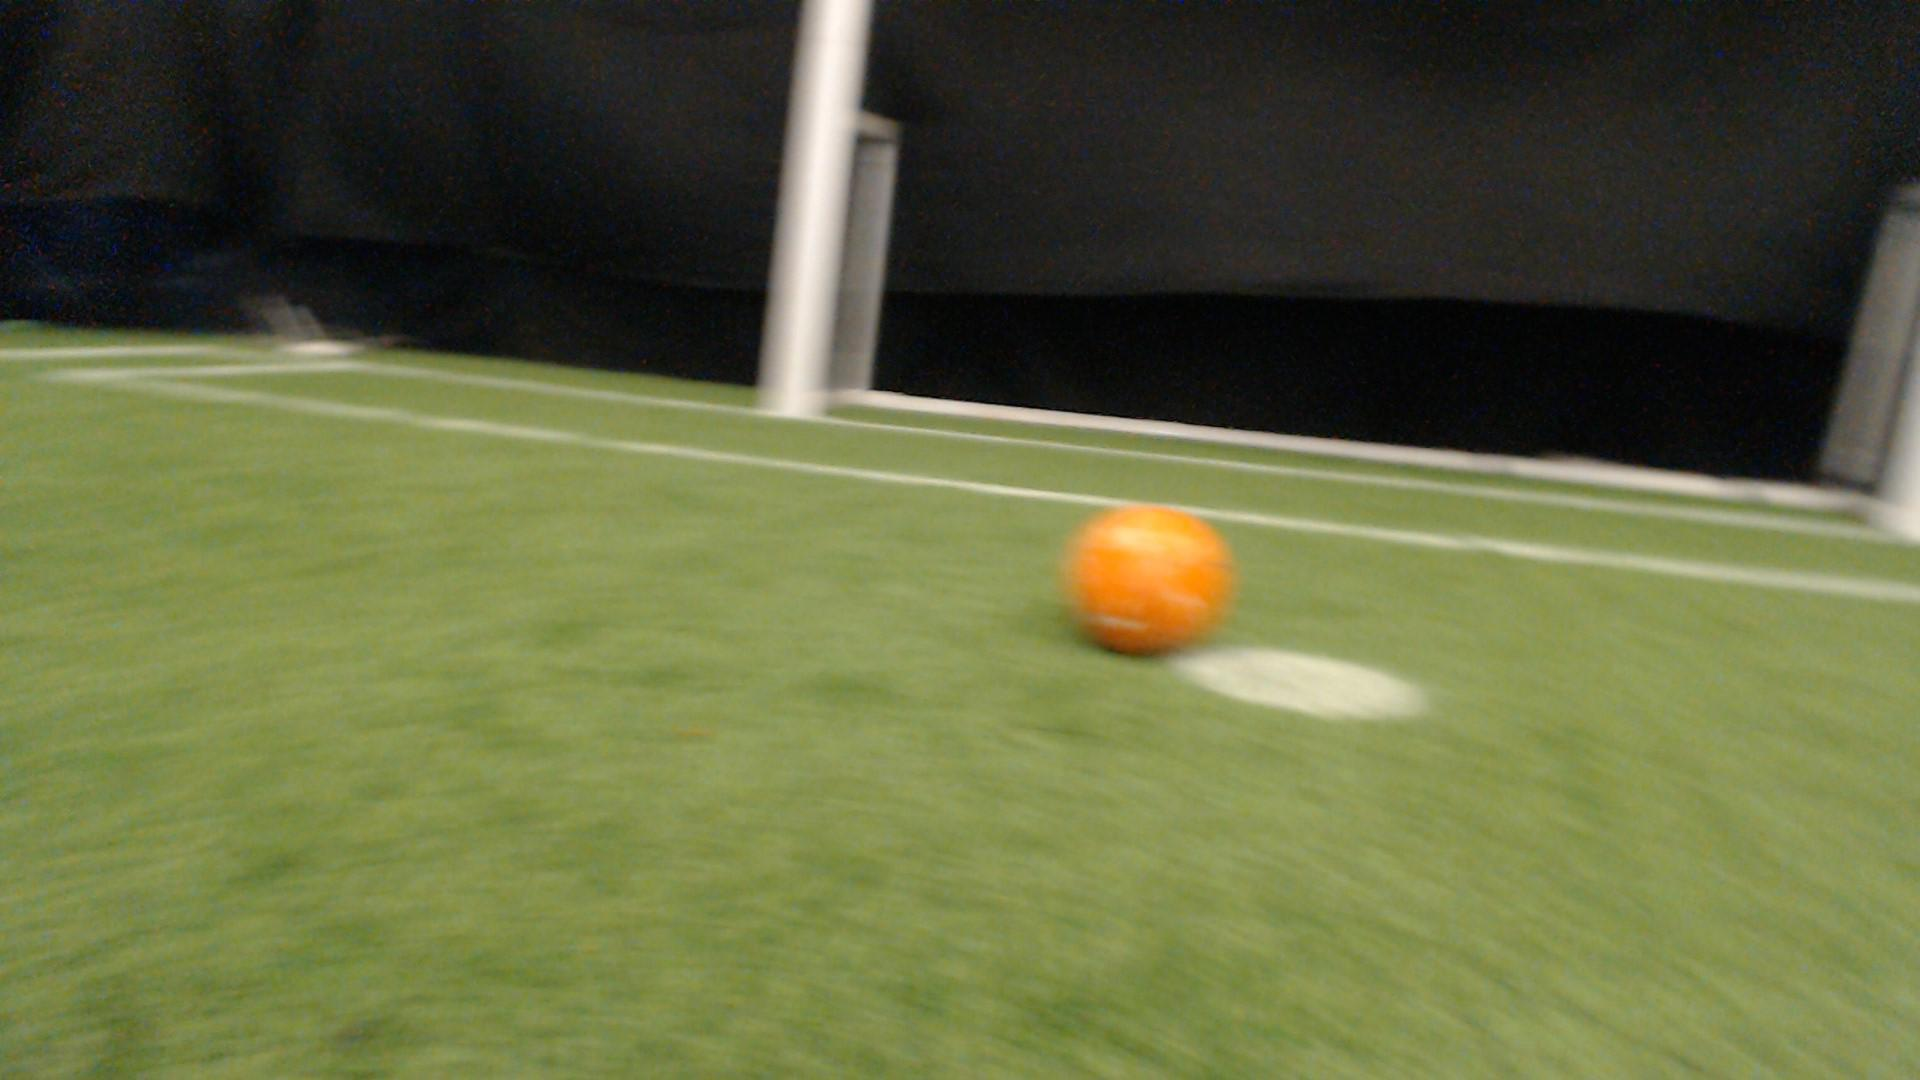bola: (1047, 483, 1251, 665)
